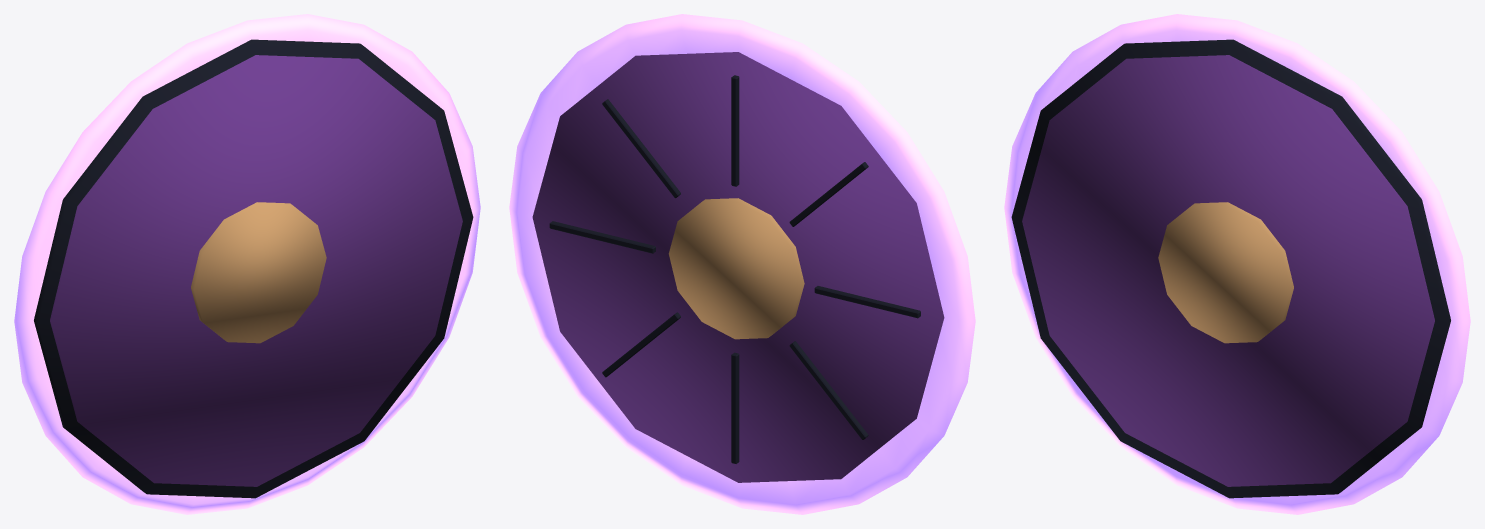
File: tool_shield.glb
The picture shows the model from 3 angles, left to right: view 1: azimuth 30°, elevation 25°; view 2: azimuth 150°, elevation 25°; view 3: azimuth 330°, elevation 25°; orthographic projection.
Parts seen in each view (by area): view 1: shield_attachment; view 2: shield_attachment; view 3: shield_attachment.
Part boxes in pixels (bbox=[...]): shield_attachment: bbox=[14, 14, 480, 514]; shield_attachment: bbox=[509, 14, 975, 514]; shield_attachment: bbox=[1004, 14, 1470, 514].
Bounding box in the file's own units: 0.9856 × 0.9856 × 0.0795.
